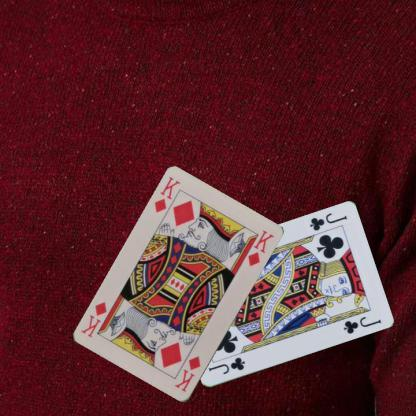Jc: (307, 210, 348, 233), (206, 355, 246, 376)
Kd: (172, 353, 202, 394), (152, 174, 182, 214)
